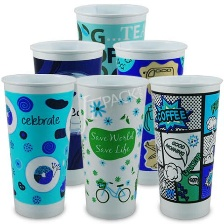paper_cup: (109, 34, 191, 188), (73, 69, 154, 223), (26, 36, 107, 189), (0, 67, 78, 224), (145, 70, 224, 223), (71, 0, 152, 81)
